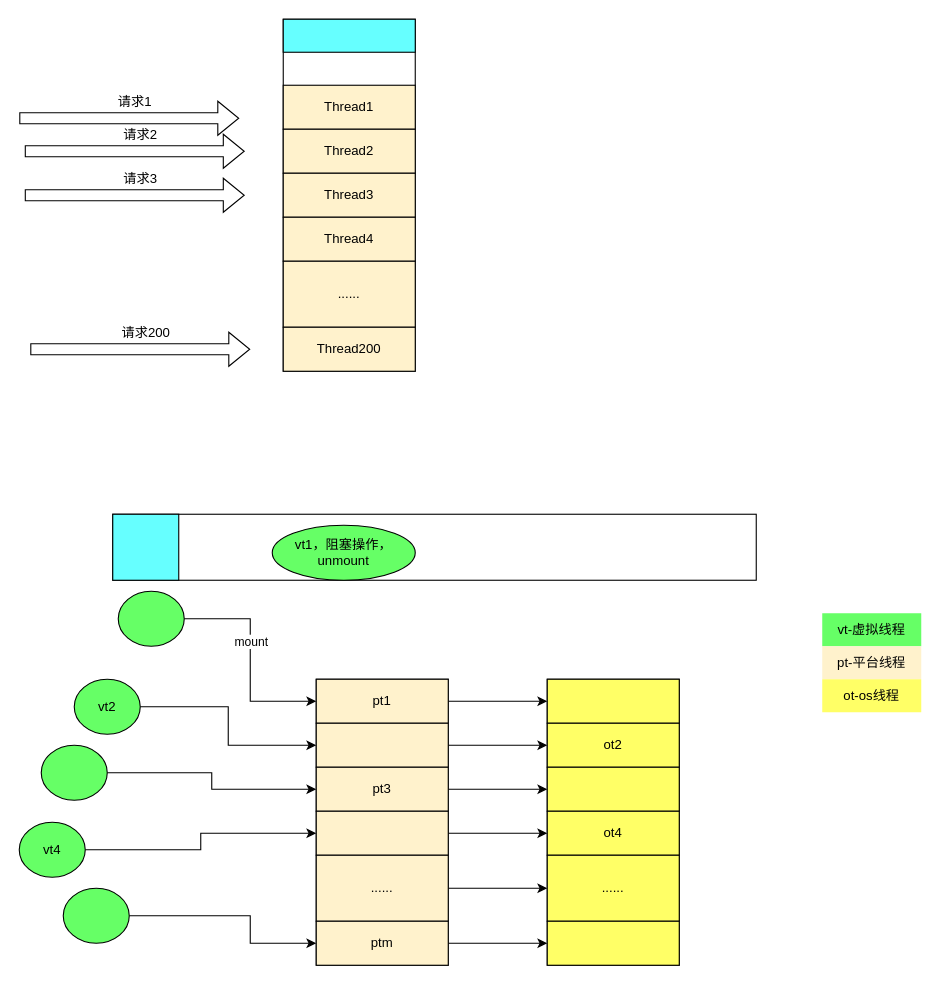
The diagram is 941 pixels wide and 985 high, and some of its shapes have lost their labels. The shapes that lost their labels are listed below. From the top down, each one's centre as x and y in pixels, then its label:
At (x=348, y=35): "Tomcat".
At (x=145, y=546): "Heap".
At (x=150, y=618): "vtn".
At (x=612, y=700): "ot1".
At (x=381, y=744): "pt2".
At (x=73, y=772): "vt3".
At (x=612, y=788): "ot3".
At (x=381, y=832): "pt4".
At (x=95, y=915): "vt5".
At (x=612, y=942): "otm".
